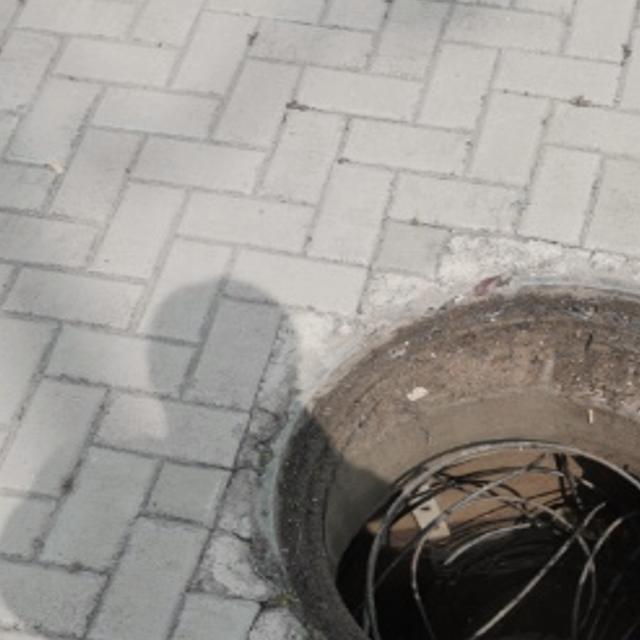lose: (257, 268, 640, 640)
